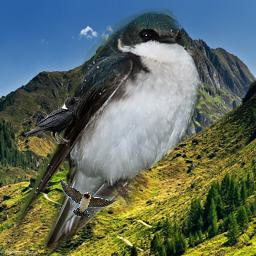Crow: (25, 95, 82, 145)
Swallow: (16, 3, 206, 255), (59, 178, 116, 217)
